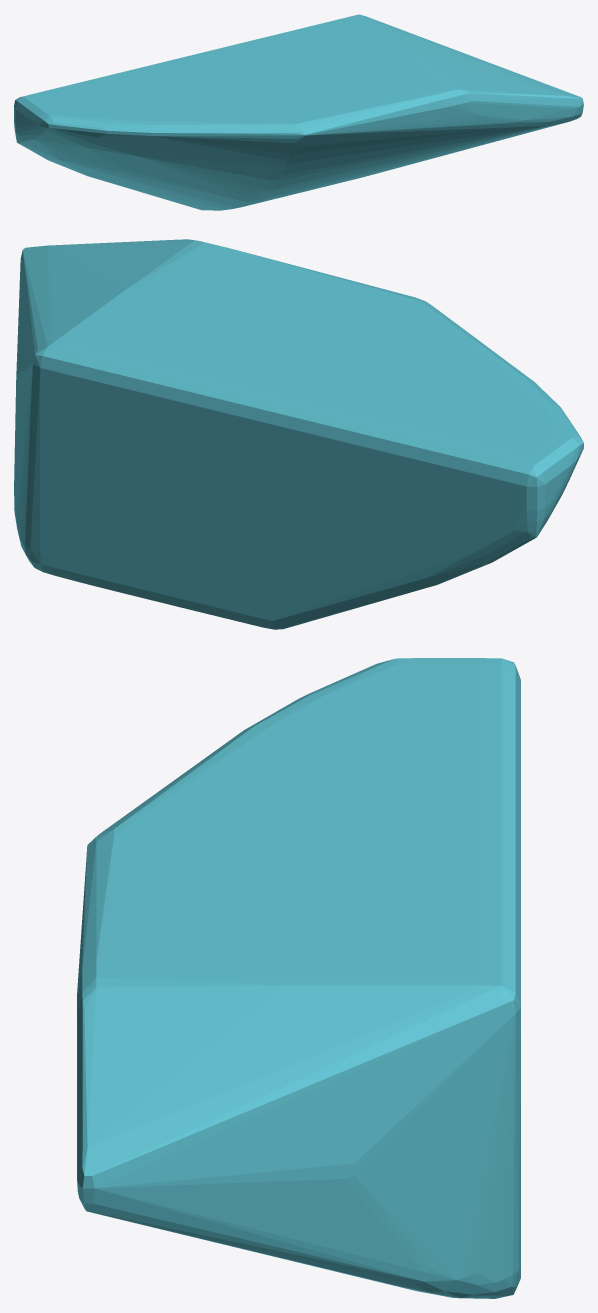
File: right_hip_yaw_link_part_2.obj
3 views of the same model, one above another, from view 1: azimuth 30°, elevation 25°; view 2: azimuth 150°, elevation 25°; view 3: azimuth 270°, elevation 25° (orthographic). The views are drawn at different scales.
Bounding box in the file's own units: 0.0994 × 0.032 × 0.0412.
